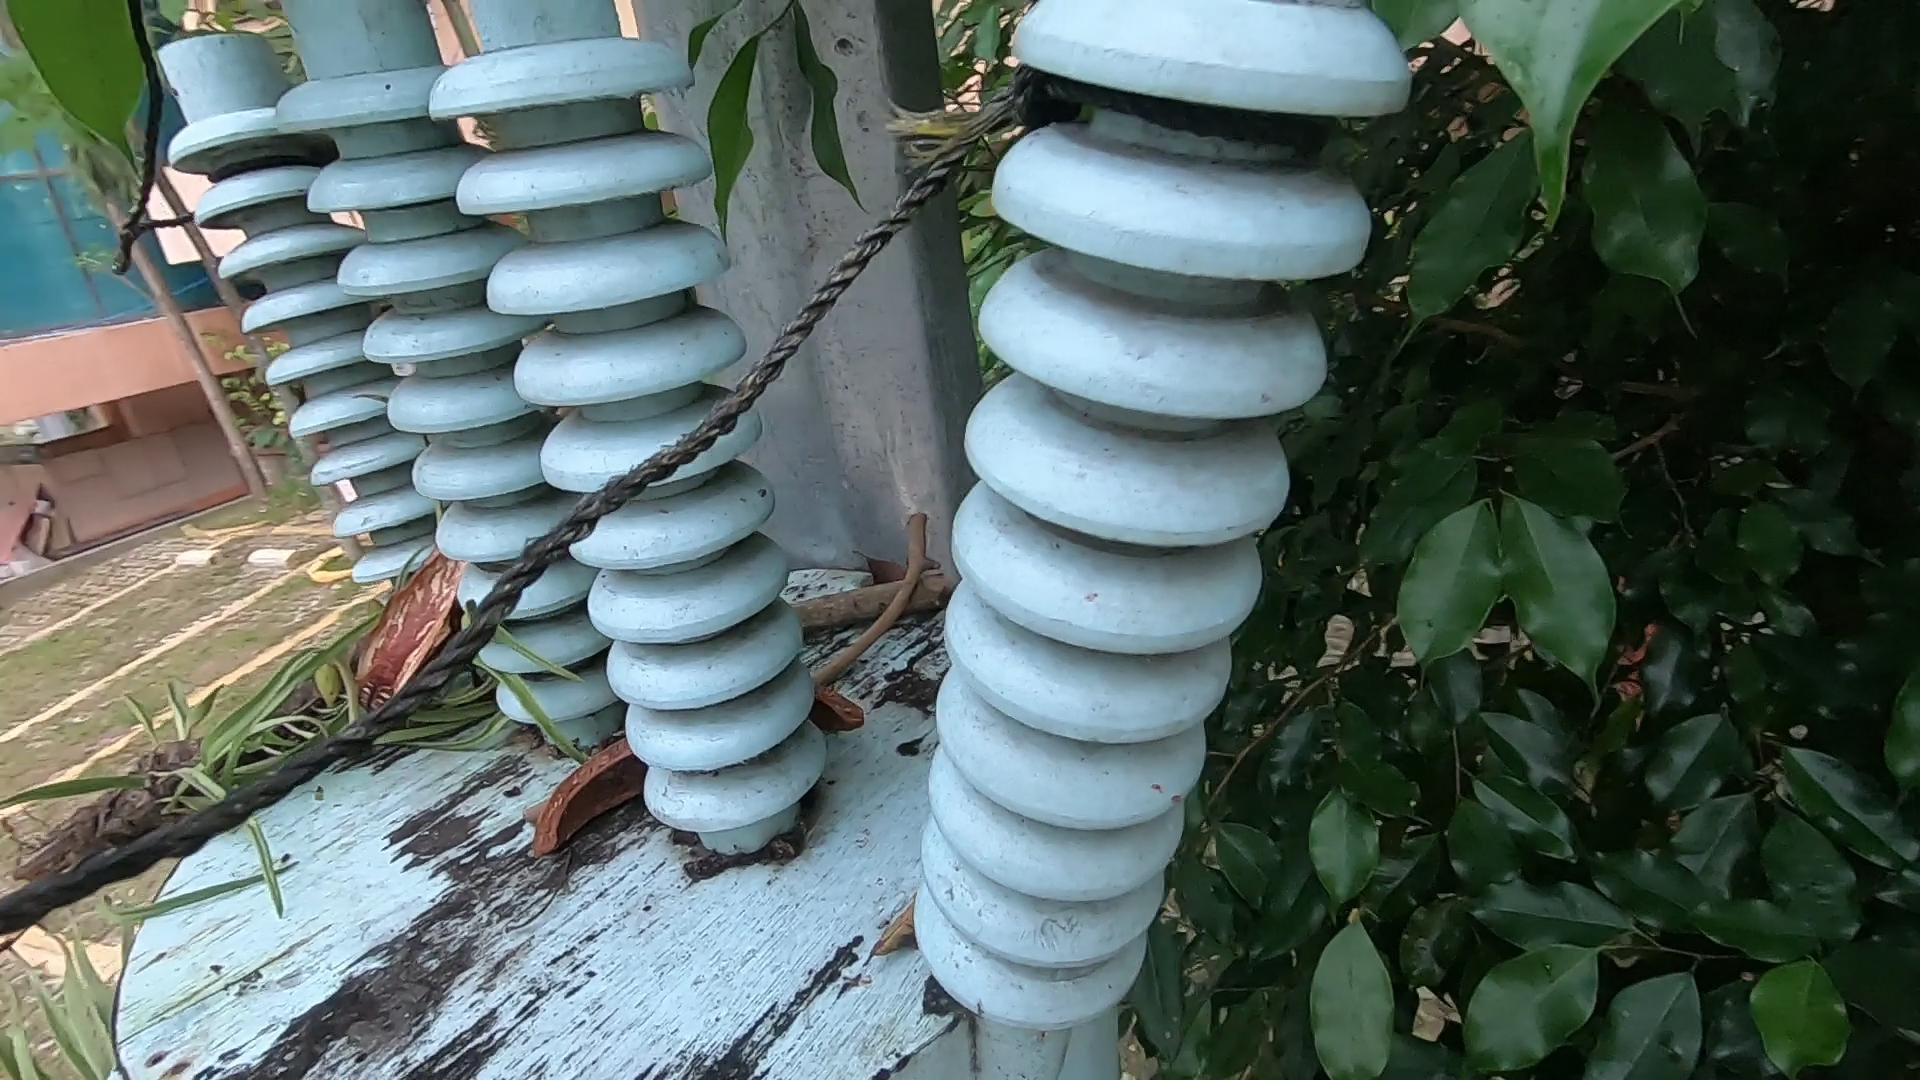branch with leaves: (87, 303, 971, 984)
leaf: (845, 815, 934, 1004)
mahogany fruit: (305, 521, 516, 717), (535, 738, 713, 878)
tree branch: (524, 471, 960, 882)
